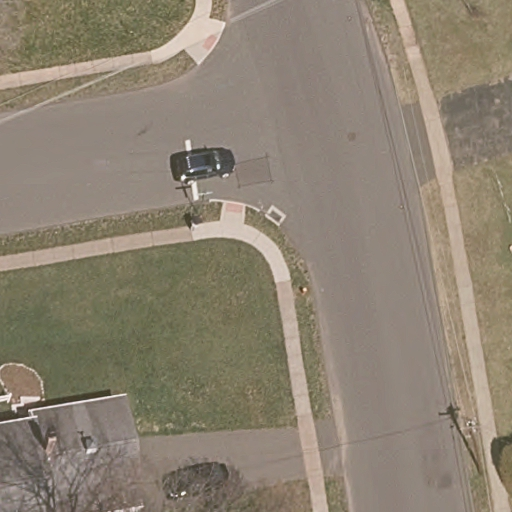DT: (460, 418, 483, 475)
